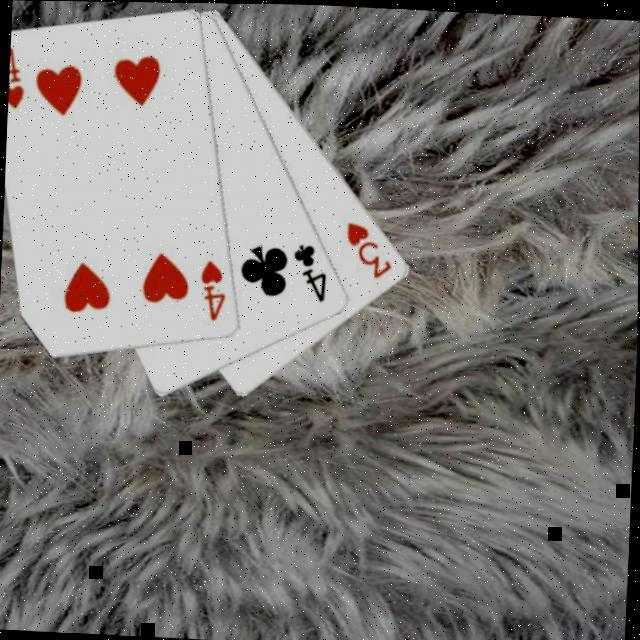3H: (342, 216, 398, 281)
4C: (290, 238, 333, 304)
4H: (197, 255, 231, 322), (7, 43, 30, 112)
